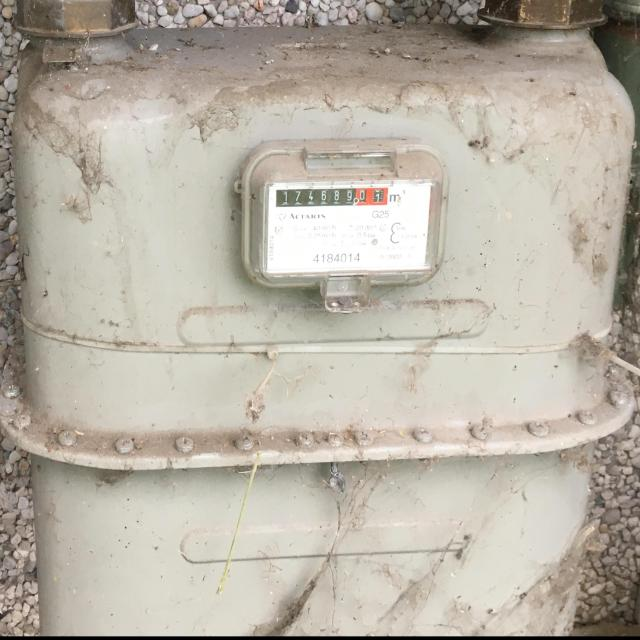gaz_meter: (263, 179, 436, 279)
indication: (275, 187, 388, 208)
